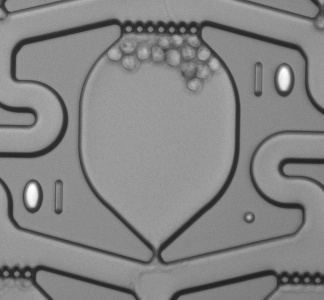AptNum: (239, 58, 301, 103)
Marker: (235, 204, 265, 231)
StNum: (12, 171, 74, 221)
